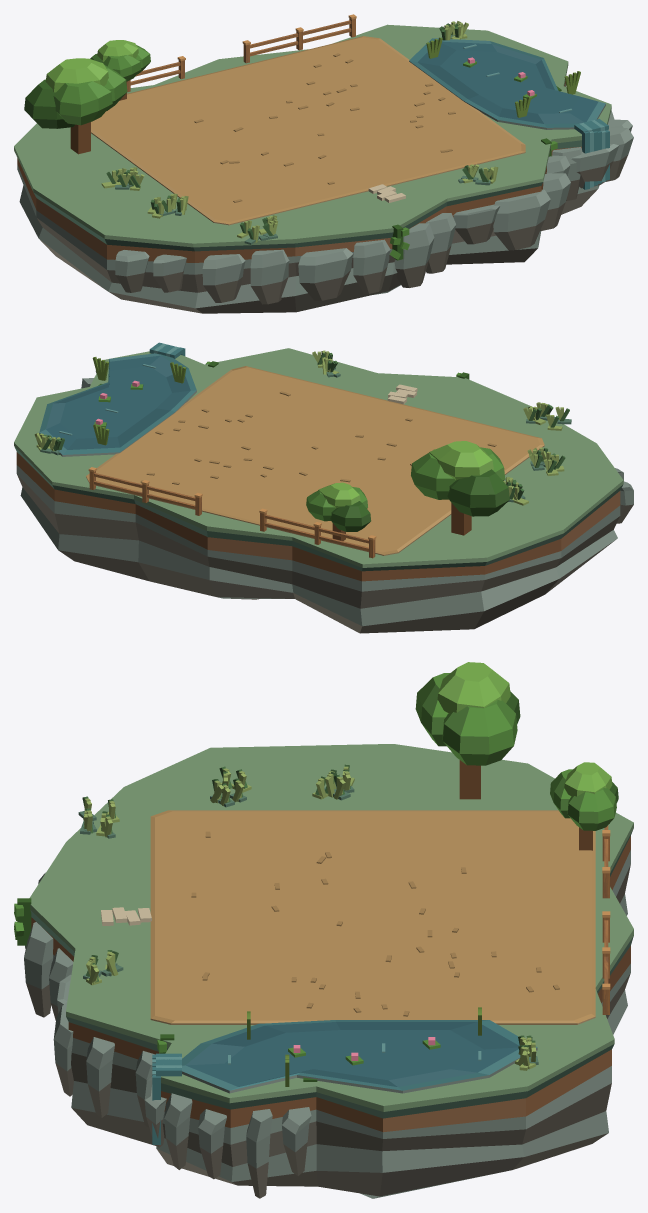
File: island-pond.glb
3 renders of one model, top to bottom at view 1: azimuth 30°, elevation 25°; view 2: azimuth 150°, elevation 25°; view 3: azimuth 270°, elevation 25°, orthographic. The views are drawn at different scales.
Visible parts, largest first — view 1: Yard, Island, Reed pond, Weathered outcrop.008, Weathered outcrop.013, Crown.002, Weathered outcrop.014, Weathered outcrop.015, Weathered outcrop.011, Weathered outcrop.012, Crown.003, Weathered outcrop.009 (+14 smaller); view 2: Island, Yard, Reed pond, Crown, Crown.003, Crown.001, Crown.004, Crown.007, Crown.005, Trunk, FenceRail, FenceRail.001 (+3 smaller); view 3: Island, Yard, Reed pond, Crown.001, Crown.003, Weathered outcrop.011, Weathered outcrop.001, Weathered outcrop.007, Crown.005, Weathered outcrop.003, Weathered outcrop, Weathered outcrop.002 (+7 smaller).
Boxes of the visible parts, x1,y1,x2,y2 form: Yard: [91, 36, 525, 225]; Island: [14, 24, 611, 313]; Reed pond: [409, 38, 605, 129]; Weathered outcrop.008: [493, 189, 550, 250]; Weathered outcrop.013: [298, 248, 353, 300]; Crown.002: [53, 81, 112, 125]; Weathered outcrop.014: [250, 249, 289, 304]; Weathered outcrop.015: [202, 254, 245, 302]; Weathered outcrop.011: [394, 223, 434, 287]; Weathered outcrop.012: [353, 239, 390, 293]; Crown.003: [45, 58, 108, 92]; Weathered outcrop.009: [453, 204, 499, 244]; Island: [14, 348, 623, 633]; Yard: [86, 366, 544, 555]; Reed pond: [39, 353, 196, 456]; Crown: [447, 469, 509, 516]; Crown.003: [429, 441, 493, 480]; Crown.001: [411, 449, 455, 499]; Crown.004: [330, 501, 371, 531]; Crown.007: [318, 482, 360, 508]; Crown.005: [306, 491, 335, 521]; Trunk: [451, 503, 471, 535]; FenceRail: [264, 522, 368, 551]; FenceRail.001: [264, 514, 368, 543]; Island: [29, 744, 633, 1198]; Yard: [150, 810, 595, 1024]; Reed pond: [182, 1020, 537, 1093]; Crown.001: [442, 699, 517, 765]; Crown.003: [437, 662, 510, 713]; Weathered outcrop.011: [24, 922, 53, 1017]; Weathered outcrop.001: [246, 1109, 272, 1198]; Weathered outcrop.007: [86, 1037, 114, 1117]; Crown.005: [567, 787, 616, 830]; Weathered outcrop.003: [164, 1093, 192, 1169]; Weathered outcrop: [281, 1107, 311, 1175]; Weathered outcrop.002: [198, 1109, 226, 1179].
Size of the model in its own units: 9.9 by 3.47 by 7.12.
Materials: 61 (1 with a texture image).
